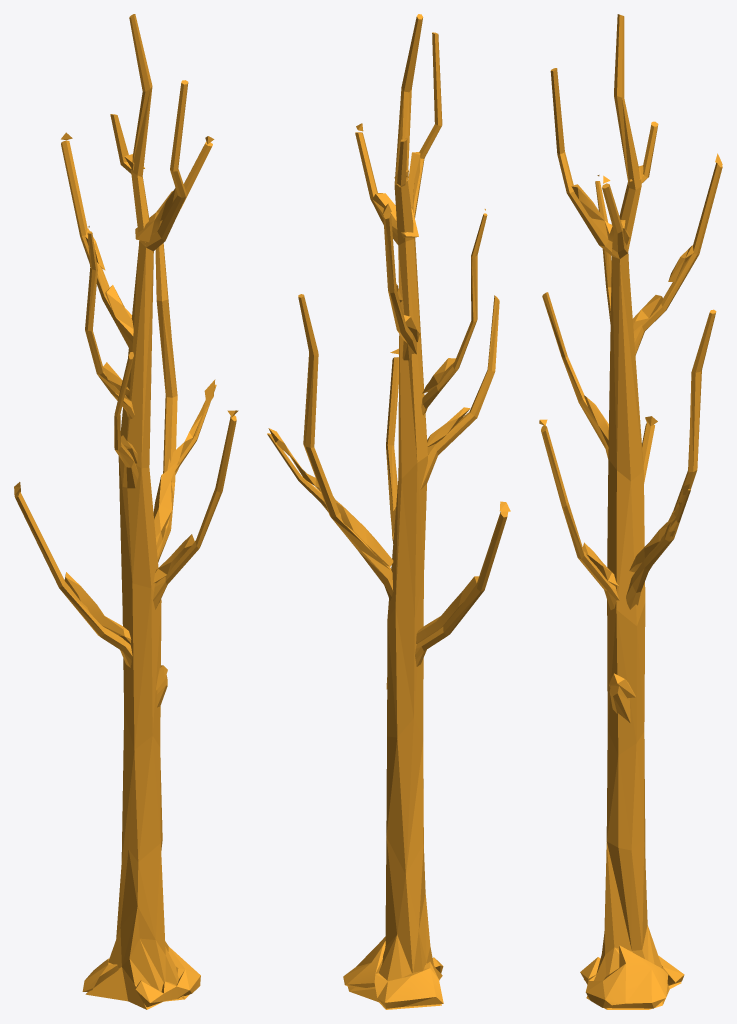
File: SM_Tree_Poplar_Dead_A_Snow.fbx
3 renders of one model, left to right at view 1: azimuth 30°, elevation 25°; view 2: azimuth 150°, elevation 25°; view 3: azimuth 270°, elevation 25°, orthographic.
Parts seen in each view (by area): view 1: tree-poplar-dead-a-snow; view 2: tree-poplar-dead-a-snow; view 3: tree-poplar-dead-a-snow.
Boxes of the visible parts, x1,y1,x2,y2 form: tree-poplar-dead-a-snow: (14, 14, 238, 1009); tree-poplar-dead-a-snow: (267, 14, 510, 1009); tree-poplar-dead-a-snow: (539, 14, 722, 1009).
Bounding box in the file's own units: 2.39 × 10.01 × 1.72.
